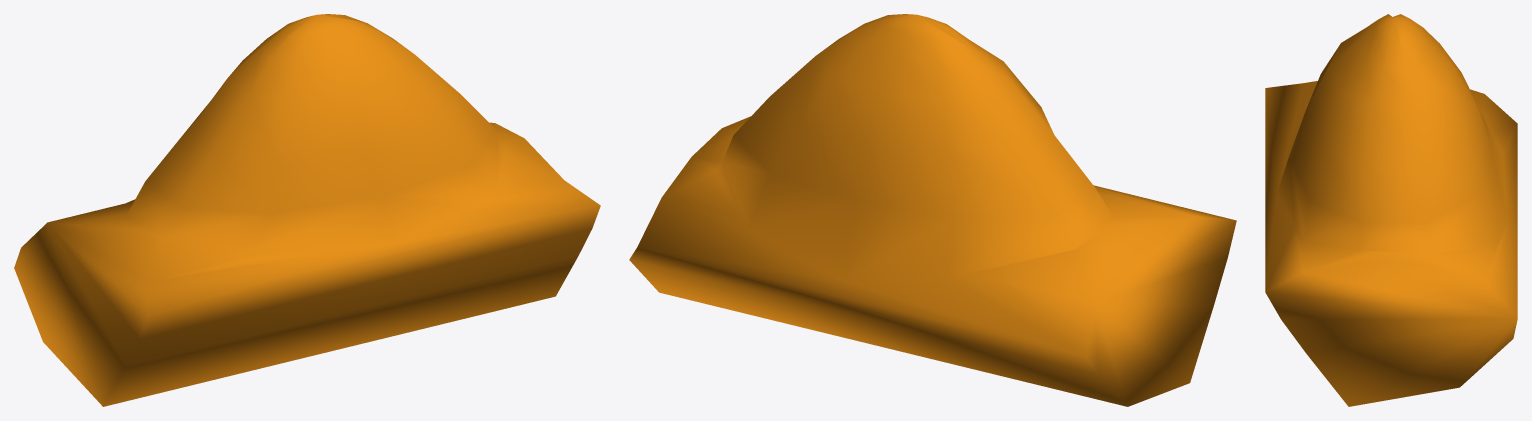
Rendered from SandPool (1).fbx.
3 renders of one model, left to right at view 1: azimuth 30°, elevation 25°; view 2: azimuth 150°, elevation 25°; view 3: azimuth 270°, elevation 25°, orthographic. The views are drawn at different scales.
Parts seen in each view (by area): view 1: Bump; view 2: Bump; view 3: Bump.
Part boxes in pixels (x1,y1,x2,y2): Bump: (14, 14, 600, 406); Bump: (629, 14, 1236, 406); Bump: (1265, 14, 1517, 406).
Bounding box in the file's own units: 255 × 170 × 133.
